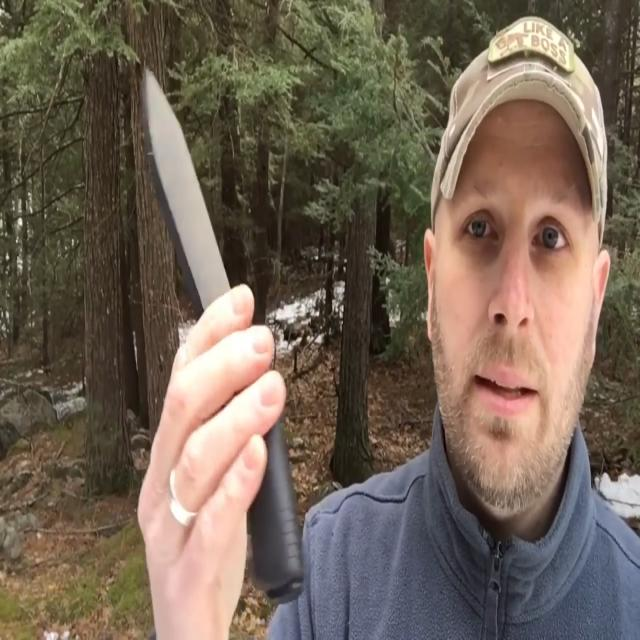knife: (140, 63, 314, 608)
